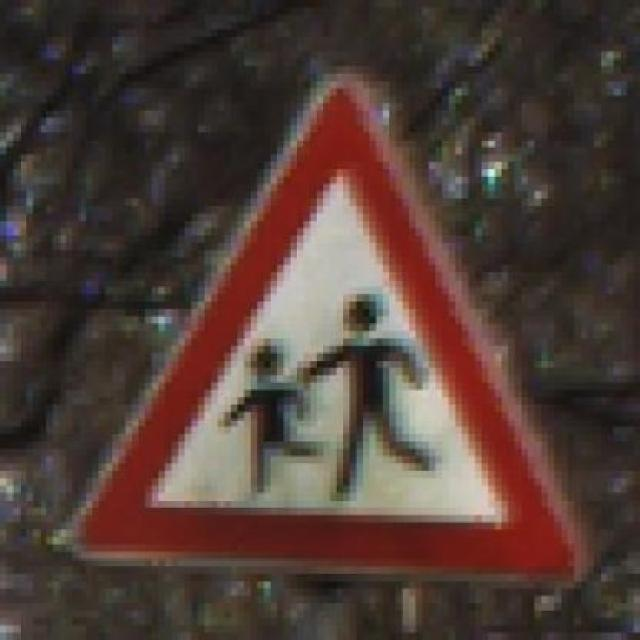Beware of children: (52, 51, 594, 582)
